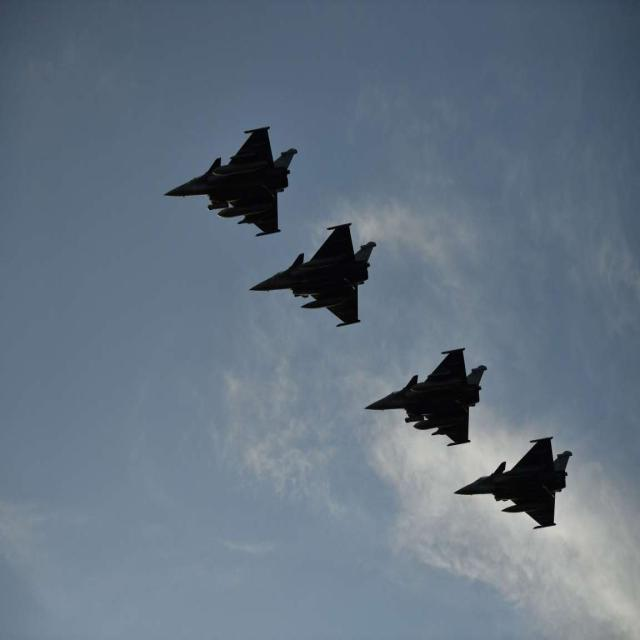MIL_Plane: (163, 126, 298, 237), (248, 223, 377, 327), (364, 347, 487, 446), (453, 436, 573, 530)
